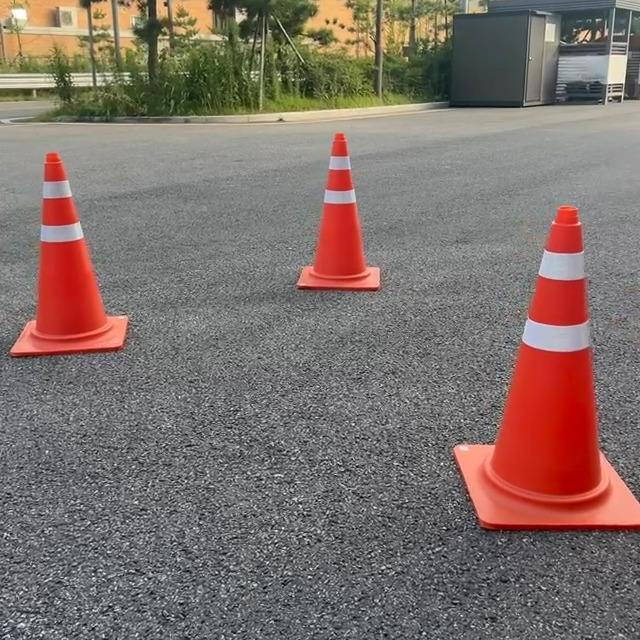fallen_object: (460, 176, 640, 640), (0, 107, 162, 389), (265, 99, 420, 336)
